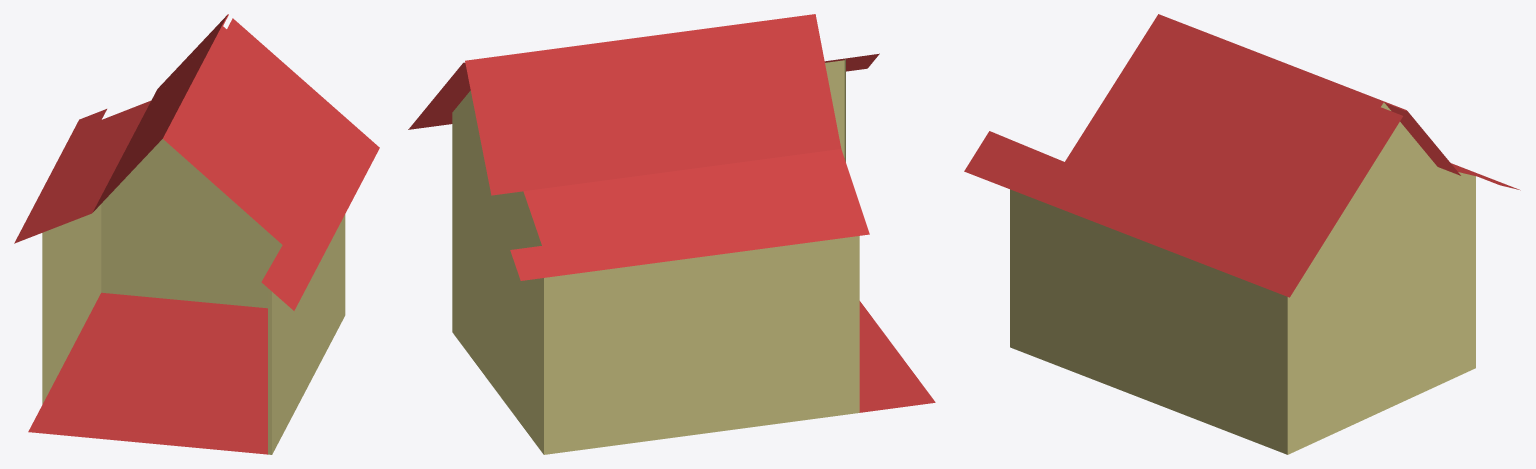
The picture shows the model from 3 angles, left to right: view 1: azimuth 30°, elevation 25°; view 2: azimuth 150°, elevation 25°; view 3: azimuth 270°, elevation 25°; orthographic projection. The views are drawn at different scales.
Bounding box in the file's own units: 23.39 × 25.79 × 15.82.
